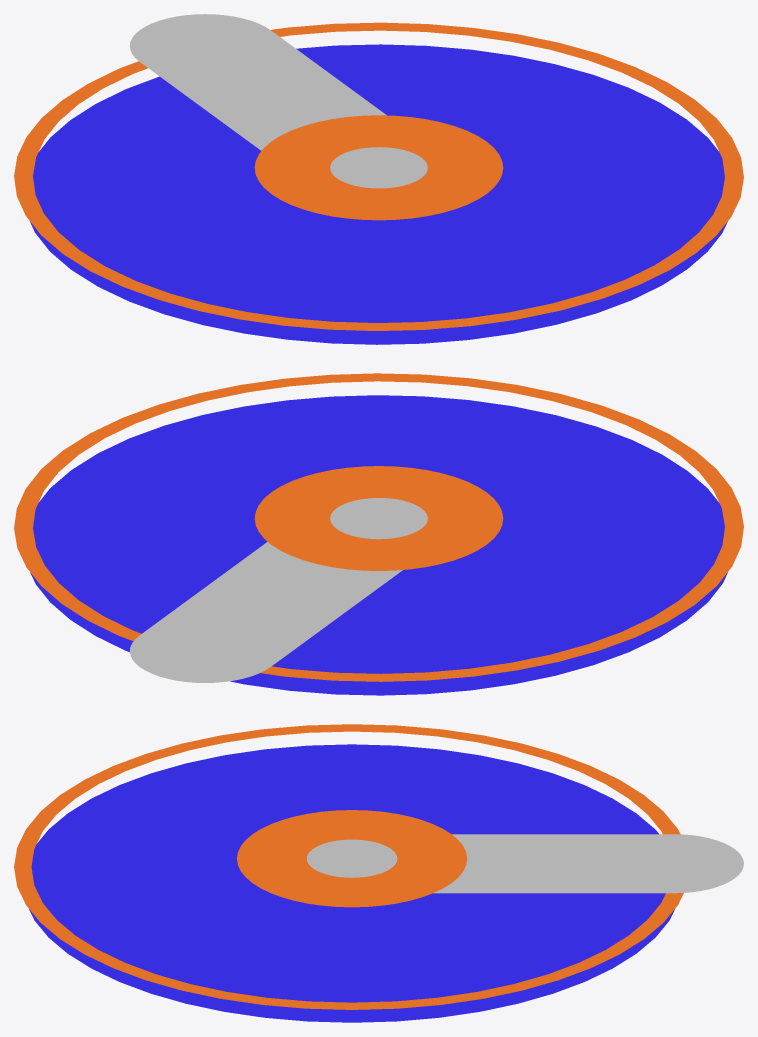
The picture shows the model from 3 angles, top to bottom: view 1: azimuth 30°, elevation 25°; view 2: azimuth 150°, elevation 25°; view 3: azimuth 270°, elevation 25°; orthographic projection. The views are drawn at different scales.
Visible parts, largest first — view 1: Object017, Object016, Object022, Object021; view 2: Object017, Object016, Object021, Object022; view 3: Object017, Object016, Object021, Object022.
Boxes of the visible parts, bbox=[...] form: Object017: bbox=[30, 44, 727, 344]; Object016: bbox=[129, 14, 427, 188]; Object022: bbox=[254, 115, 503, 220]; Object021: bbox=[14, 22, 743, 330]; Object017: bbox=[30, 395, 727, 695]; Object016: bbox=[129, 498, 427, 682]; Object021: bbox=[14, 373, 743, 681]; Object022: bbox=[254, 466, 503, 570]; Object017: bbox=[29, 744, 674, 1022]; Object016: bbox=[306, 834, 743, 893]; Object021: bbox=[14, 724, 683, 1009]; Object022: bbox=[237, 810, 467, 907].
Bounding box in the file's own units: 24.45 × 0.9919 × 26.39.
